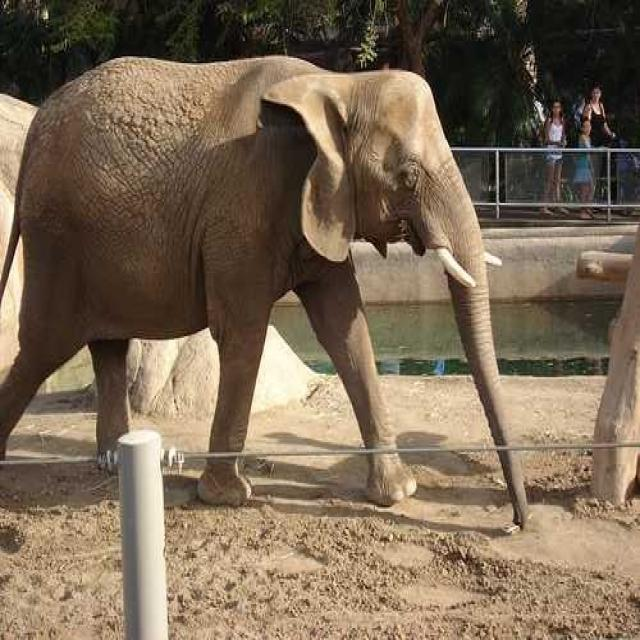Elephant: (0, 53, 531, 531)
person: (539, 99, 567, 215), (571, 116, 595, 219)
